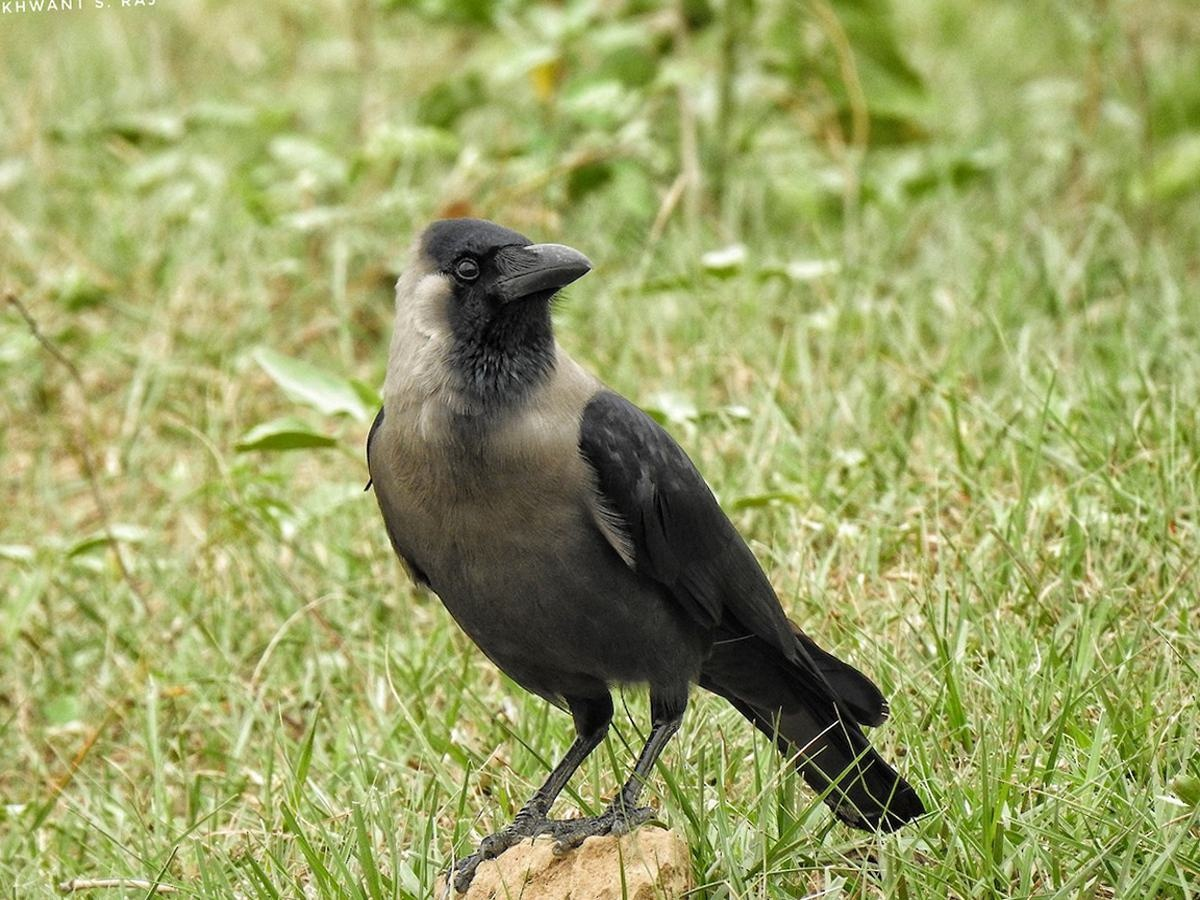crow: (344, 217, 940, 872)
